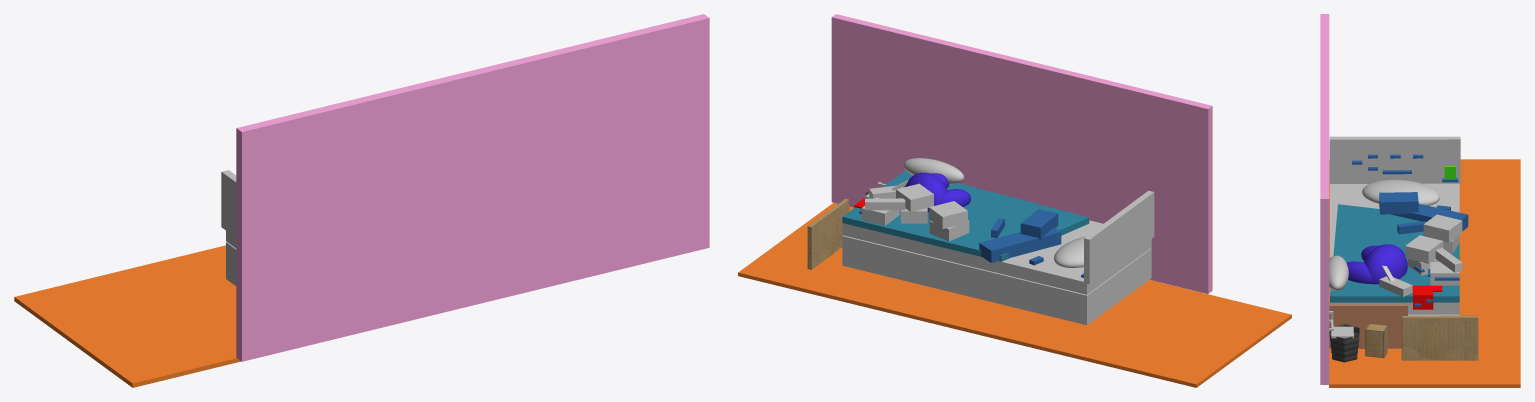
File: Bedroom.fbx
3 renders of one model, left to right at view 1: azimuth 30°, elevation 25°; view 2: azimuth 150°, elevation 25°; view 3: azimuth 270°, elevation 25°, orthographic. The views are drawn at different scales.
Parts seen in each view (by area): view 1: wall__1_, Floor__1_, BedHead; view 2: wall__1_, Floor__1_, BedBottom, Cover, Matress, BedHead, CardboardBox_1, Cover_1, Pillow_1, Pillow, PileOfClothes_4, Cover_2 (+5 smaller); view 3: Floor__1_, BedHead, Cover, wall__1_, CardboardBox_1, Matress, Cube__12_, Pillow_1, HeadPillow, Cover_2, PileOfClothes_4, bin_Cylinder_L_018_Bin_UV_blend_Dupli_ (+12 smaller).
Part boxes in pixels (bbox=[...]): wall__1_: bbox=[236, 14, 709, 361]; Floor__1_: bbox=[14, 245, 240, 387]; BedHead: bbox=[221, 170, 236, 237]; wall__1_: bbox=[831, 14, 1212, 293]; Floor__1_: bbox=[738, 203, 1291, 387]; BedBottom: bbox=[842, 235, 1151, 325]; Cover: bbox=[842, 170, 1089, 261]; Matress: bbox=[842, 220, 1151, 294]; BedHead: bbox=[1084, 190, 1154, 284]; CardboardBox_1: bbox=[807, 198, 849, 269]; Cover_1: bbox=[979, 227, 1061, 262]; Pillow_1: bbox=[905, 172, 970, 212]; Pillow: bbox=[903, 158, 964, 184]; PileOfClothes_4: bbox=[929, 201, 967, 228]; Cover_2: bbox=[1020, 209, 1058, 239]; Floor__1_: bbox=[1329, 159, 1520, 387]; BedHead: bbox=[1329, 136, 1460, 184]; Cover: bbox=[1330, 204, 1459, 302]; wall__1_: bbox=[1320, 14, 1329, 384]; CardboardBox_1: bbox=[1401, 315, 1478, 360]; Matress: bbox=[1330, 183, 1459, 314]; Cube__12_: bbox=[1329, 304, 1407, 348]; Pillow_1: bbox=[1346, 244, 1407, 284]; HeadPillow: bbox=[1362, 179, 1439, 205]; Cover_2: bbox=[1379, 192, 1418, 214]; PileOfClothes_4: bbox=[1423, 214, 1462, 242]; bin_Cylinder_L_018_Bin_UV_blend_Dupli_: bbox=[1329, 324, 1359, 362].
Size of the model in its own units: 23688 by 9808 by 8887.
